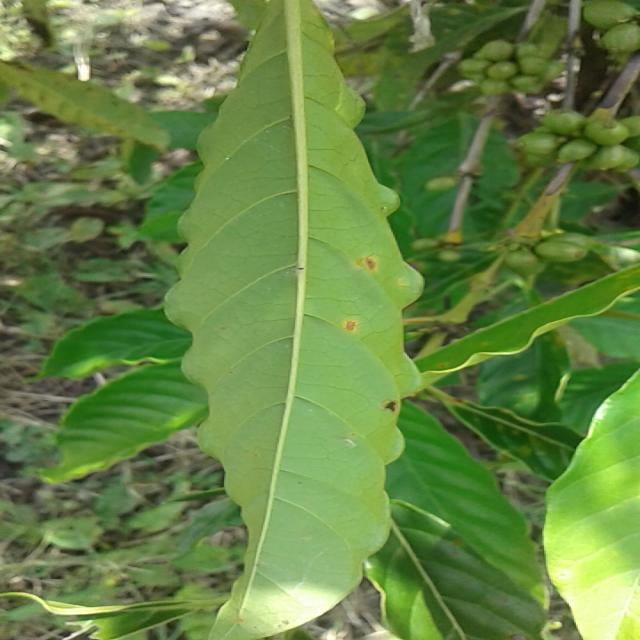Enfermedad-Roya: (164, 0, 427, 640)
